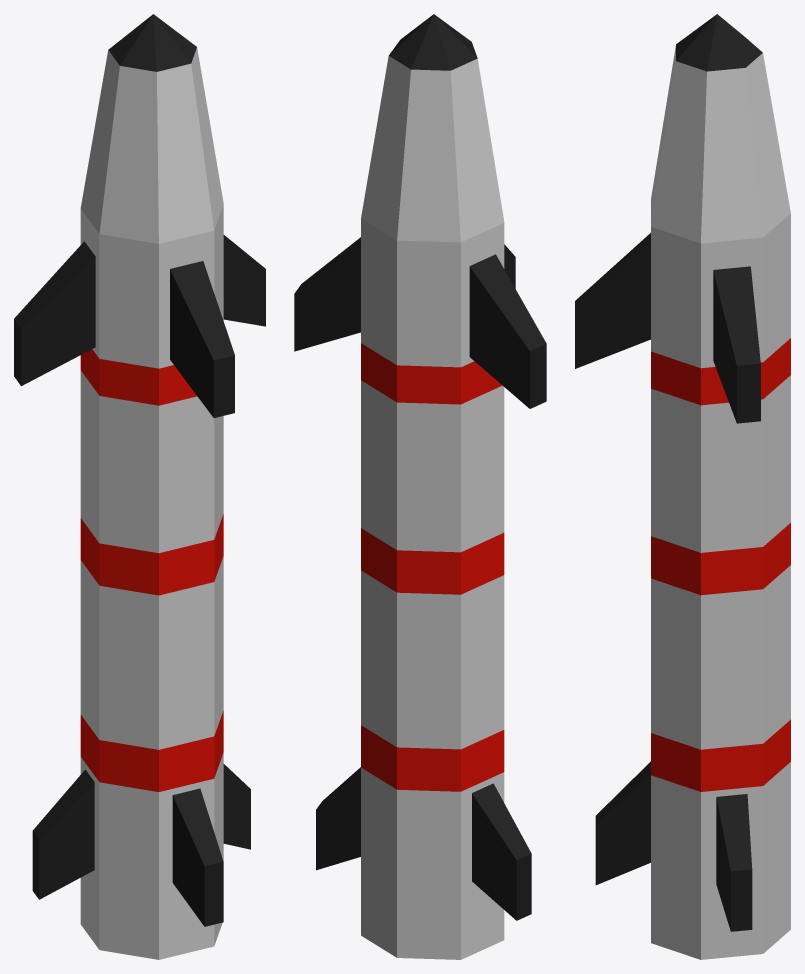
The model's file is Homing_Missile.fbx.
3 renders of one model, left to right at view 1: azimuth 30°, elevation 25°; view 2: azimuth 150°, elevation 25°; view 3: azimuth 270°, elevation 25°, orthographic.
Visible parts, largest first — view 1: Homing_Missile; view 2: Homing_Missile; view 3: Homing_Missile.
Boxes of the visible parts, bbox=[...] form: Homing_Missile: bbox=[14, 14, 265, 959]; Homing_Missile: bbox=[294, 14, 546, 959]; Homing_Missile: bbox=[575, 14, 790, 959].
Size of the model in its own units: 40.4 by 144 by 30.85.
